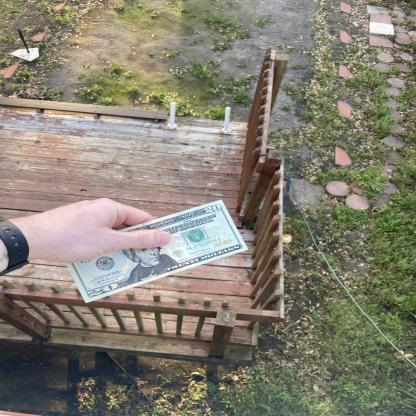twenty-front: (59, 199, 248, 303)
